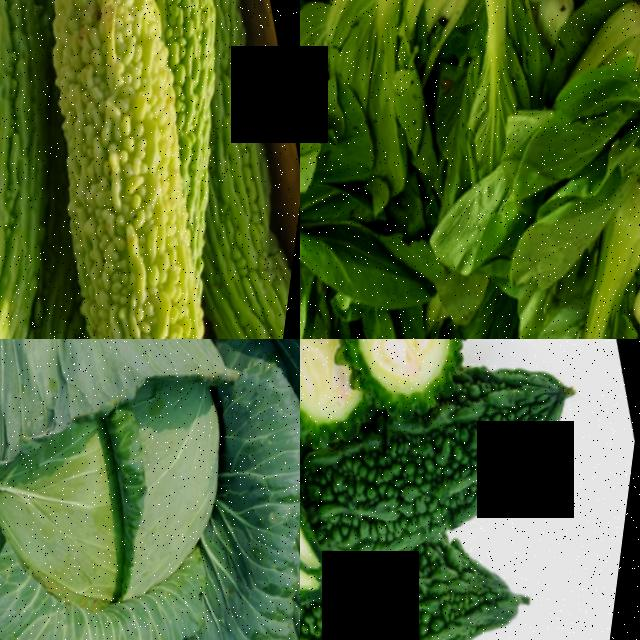bitter gourd: (0, 0, 300, 339), (300, 393, 576, 574), (0, 0, 102, 283), (300, 541, 545, 640), (189, 168, 300, 339), (106, 0, 248, 117), (306, 339, 501, 419), (300, 339, 373, 435)
bok choy: (300, 0, 466, 139), (505, 87, 640, 256), (427, 0, 568, 107)
cabbage: (0, 339, 300, 640)
